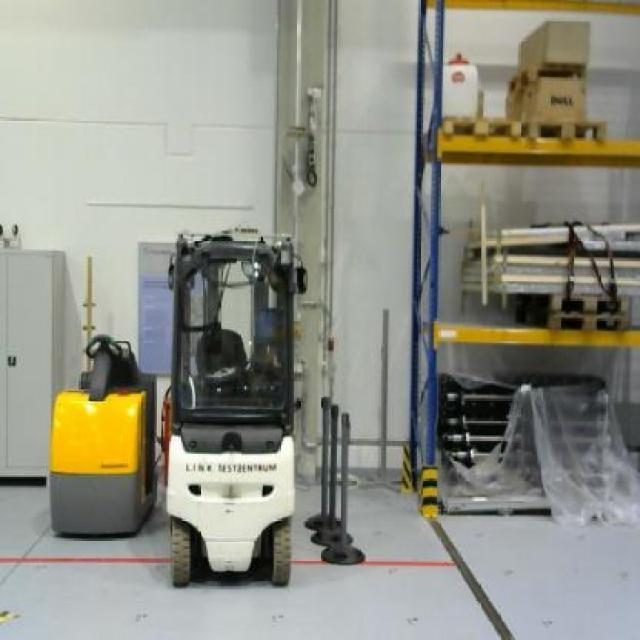box: (506, 77, 588, 125), (518, 20, 590, 71)
